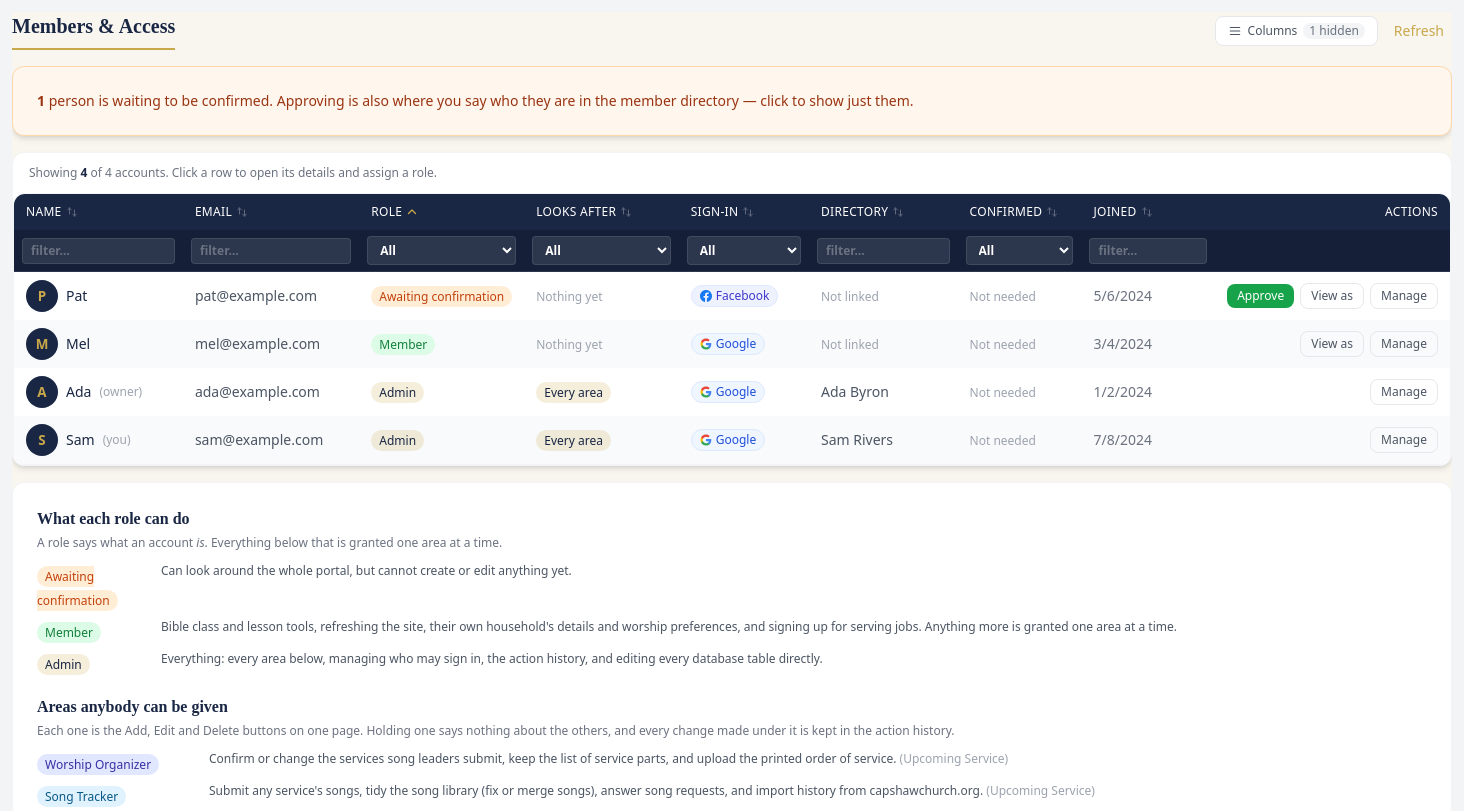
Test case: UsersView grid — filtering › says so when nothing matches
This screenshot has width=1464, height=811.
Expected: the button with aria-label "Manage Ada" is shown, [1370,379,1438,405]
Type "nobody" into the field named "Filter by Name". click: (98,250)
box: [22,238,175,264]
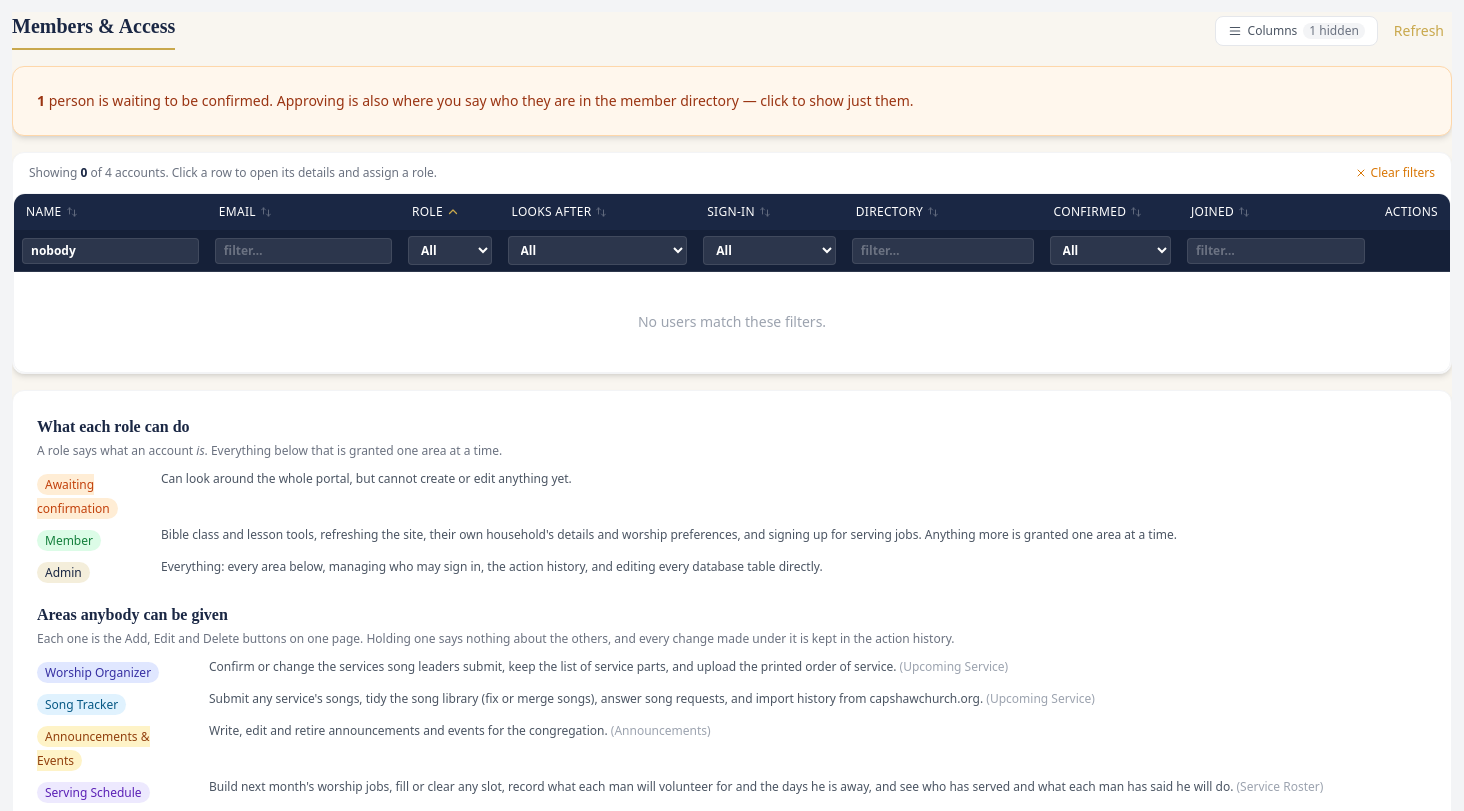
Expected: the text "No users match these filters." is shown, [14,272,1450,372]
